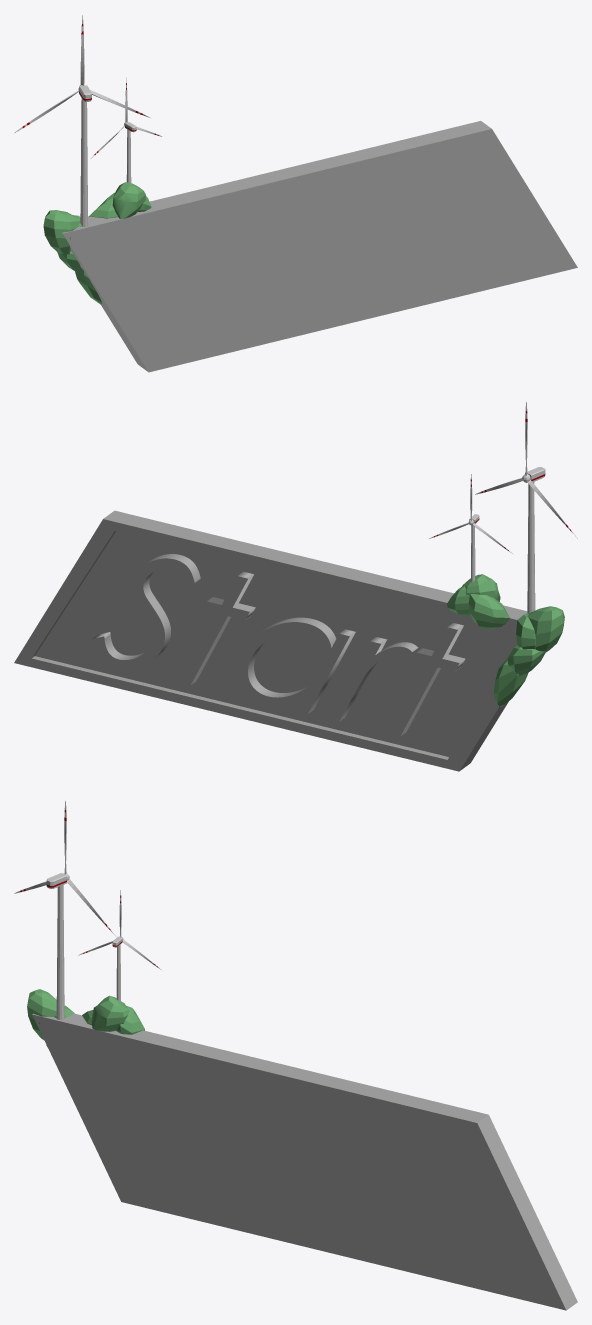
The model's file is StartButton.fbx.
3 renders of one model, top to bottom at view 1: azimuth 30°, elevation 25°; view 2: azimuth 150°, elevation 25°; view 3: azimuth 330°, elevation 25°, orthographic. The views are drawn at different scales.
Visible parts, largest first — view 1: StartButton1; view 2: StartButton1; view 3: StartButton1.
Boxes of the visible parts, bbox=[...] form: StartButton1: bbox=[14, 15, 577, 372]; StartButton1: bbox=[14, 401, 577, 771]; StartButton1: bbox=[14, 800, 577, 1310].
Bounding box in the file's own units: 10.12 × 6.49 × 0.7465.
